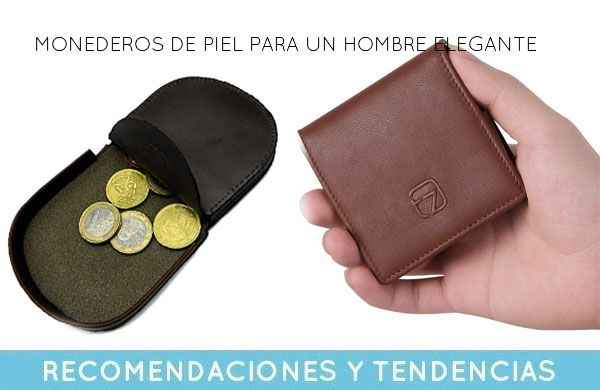monedero: (9, 76, 278, 332), (299, 40, 527, 286)
